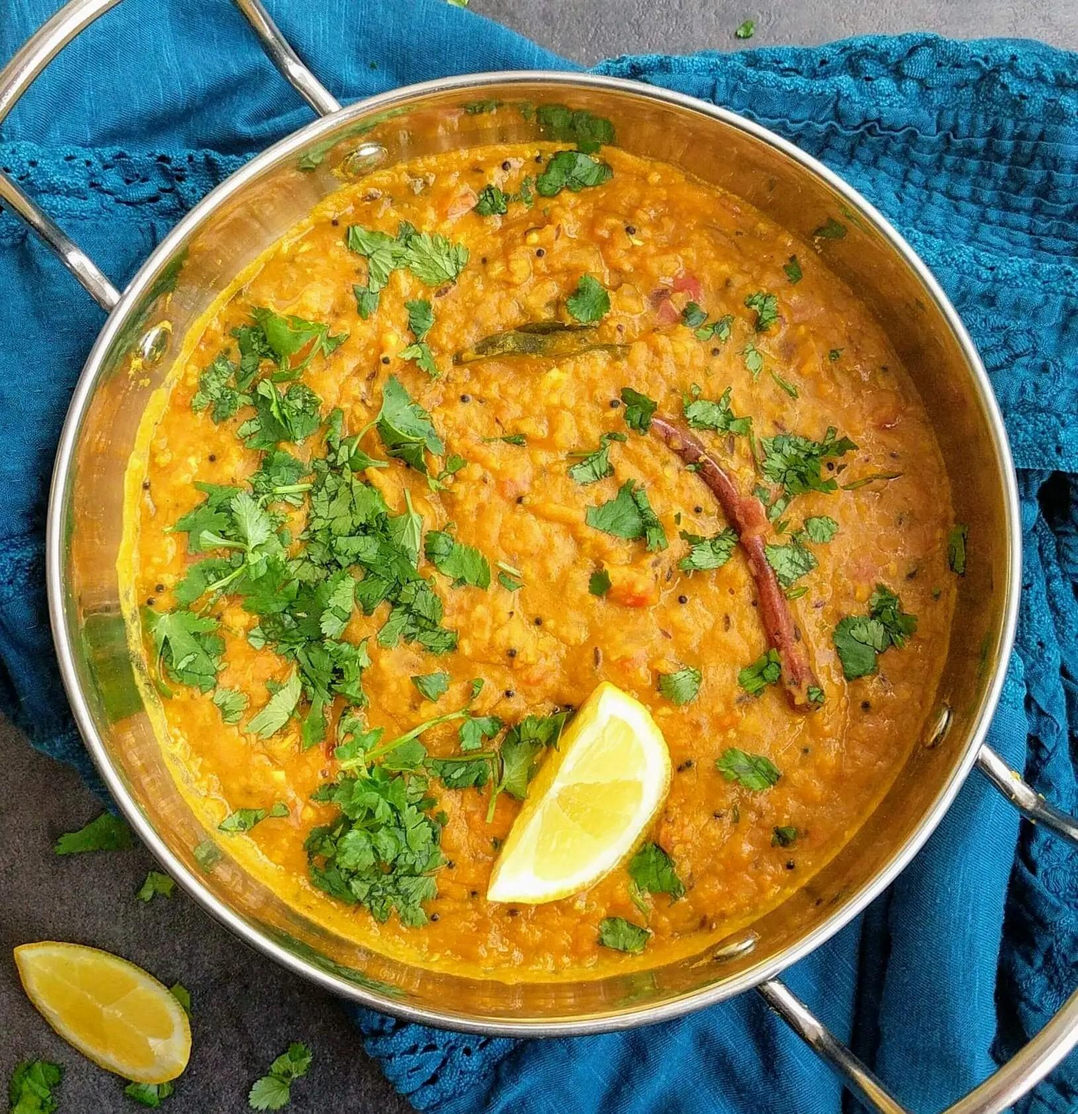Dal: (129, 142, 952, 982)
